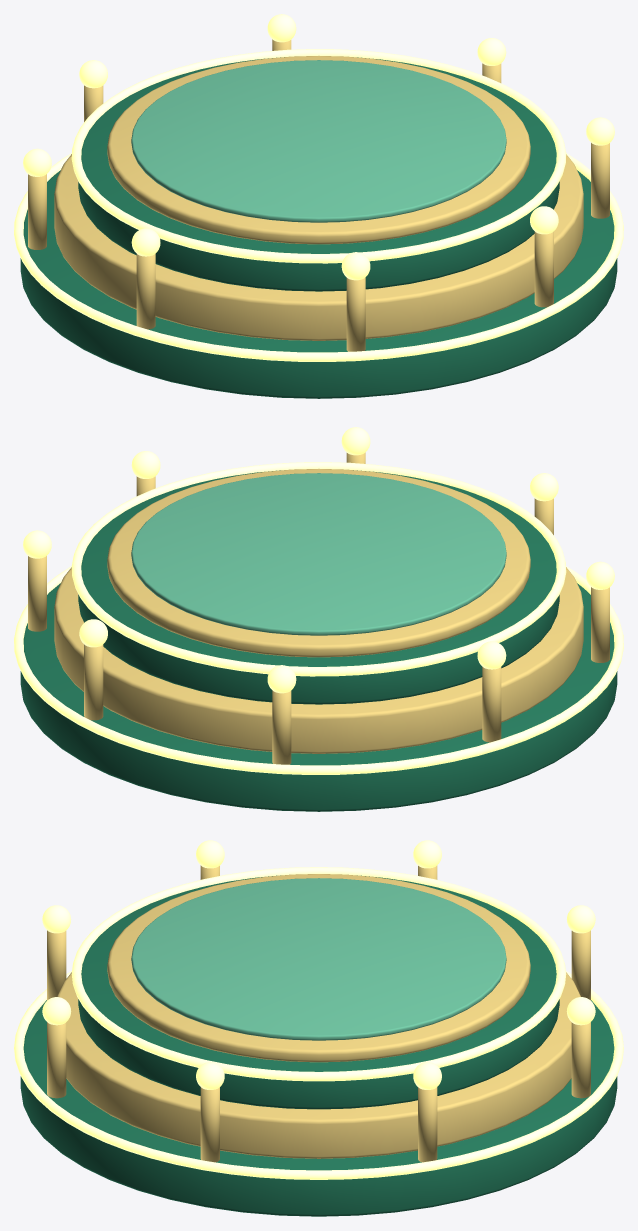
Rendered from podium-worldcup-great.glb.
3 renders of one model, top to bottom at view 1: azimuth 30°, elevation 25°; view 2: azimuth 150°, elevation 25°; view 3: azimuth 270°, elevation 25°, orthographic.
Visible parts, largest first — view 1: deck, base, tier, tier2, top, Torus.001, Torus, Cylinder.006, Cylinder.004, Cylinder.005, Cylinder.007, Cylinder.003 (+8 smaller); view 2: deck, base, tier, tier2, top, Torus.001, Torus, Cylinder.001, Cylinder.003, Cylinder.002, Cylinder, Cylinder.004 (+8 smaller); view 3: deck, base, tier, tier2, top, Torus.001, Torus, Cylinder.001, Cylinder.006, Cylinder, Cylinder.007, Cylinder.002 (+9 smaller).
Boxes of the visible parts, <box> form: deck: <box>131,60,506,222</box>; base: <box>20,170,617,398</box>; tier: <box>54,154,583,340</box>; tier2: <box>78,57,559,291</box>; top: <box>107,56,530,244</box>; Torus.001: <box>71,49,566,263</box>; Torus: <box>14,153,623,361</box>; Cylinder.006: <box>534,231,553,307</box>; Cylinder.004: <box>136,254,155,329</box>; Cylinder.005: <box>346,277,365,351</box>; Cylinder.007: <box>591,143,609,218</box>; Cylinder.003: <box>28,174,46,249</box>; deck: <box>131,473,506,635</box>; base: <box>20,583,617,811</box>; tier: <box>54,567,583,753</box>; tier2: <box>78,470,559,704</box>; top: <box>107,469,530,657</box>; Torus.001: <box>71,462,566,676</box>; Torus: <box>14,566,623,774</box>; Cylinder.001: <box>84,644,103,720</box>; Cylinder.003: <box>482,667,501,742</box>; Cylinder.002: <box>272,690,291,764</box>; Cylinder: <box>28,556,46,631</box>; Cylinder.004: <box>591,587,609,662</box>; deck: <box>131,878,506,1040</box>; base: <box>20,1000,617,1216</box>; tier: <box>57,972,580,1158</box>; tier2: <box>78,875,559,1109</box>; top: <box>107,874,530,1062</box>; Torus.001: <box>71,867,566,1081</box>; Torus: <box>14,971,623,1179</box>; Cylinder.001: <box>571,1022,590,1098</box>; Cylinder.006: <box>47,1022,66,1098</box>; Cylinder: <box>418,1087,437,1162</box>; Cylinder.007: <box>200,1087,219,1162</box>; Cylinder.002: <box>571,930,590,1000</box>.
Size of the model in its own units: 6.34 by 1.6 by 6.34.
